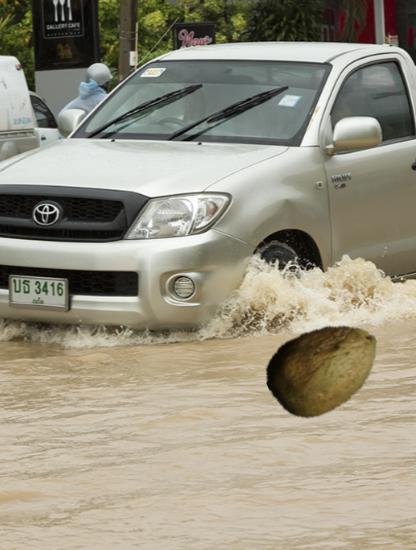Papaya: (265, 310, 384, 429)
